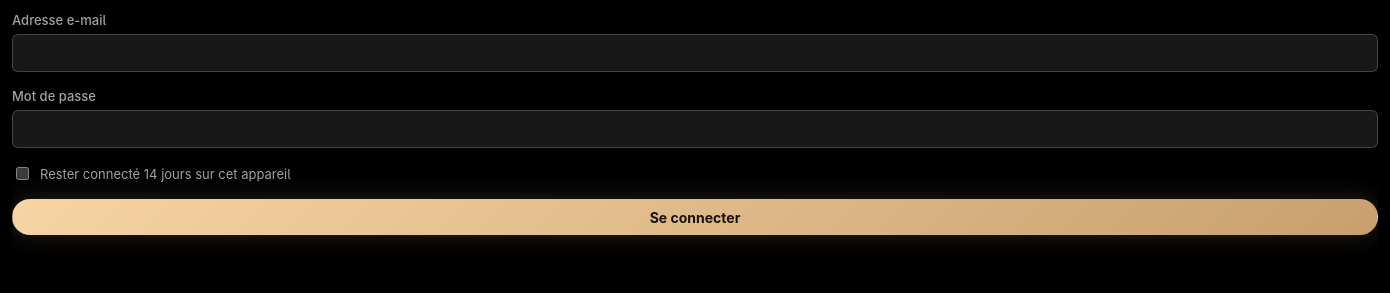
LoginForm › shows a generic error for invalid credentials without revealing which field failed
The width and height of the screenshot is (1390, 293).
Step 1. Type "owner@example.test" into the field labelled "Adresse e-mail" → (695, 53), box [12,34,1378,72]
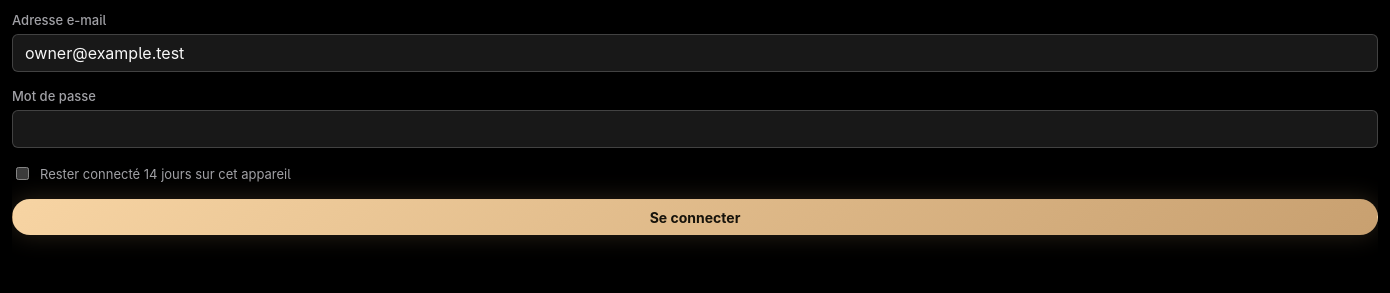
Step 2. Type "correct horse battery" into the password field labelled "Mot de passe" → (695, 129), box [12,110,1378,148]
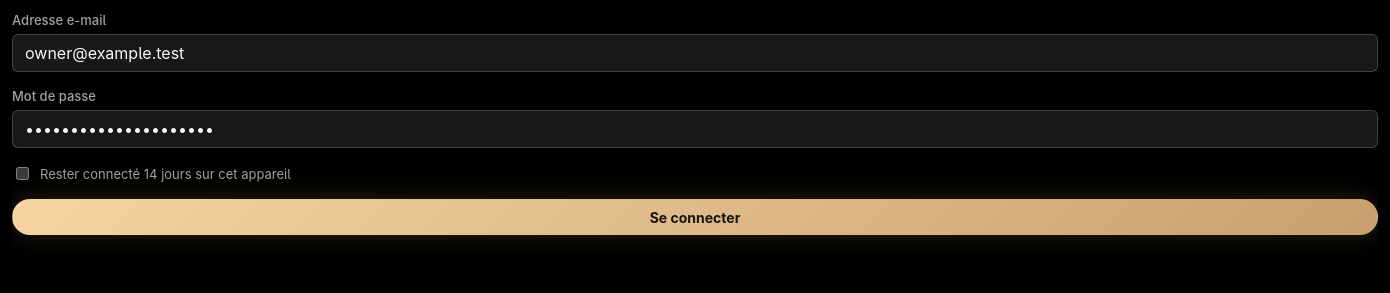
Step 3. Submit the form from the button "Se connecter", box [12,199,1378,235]
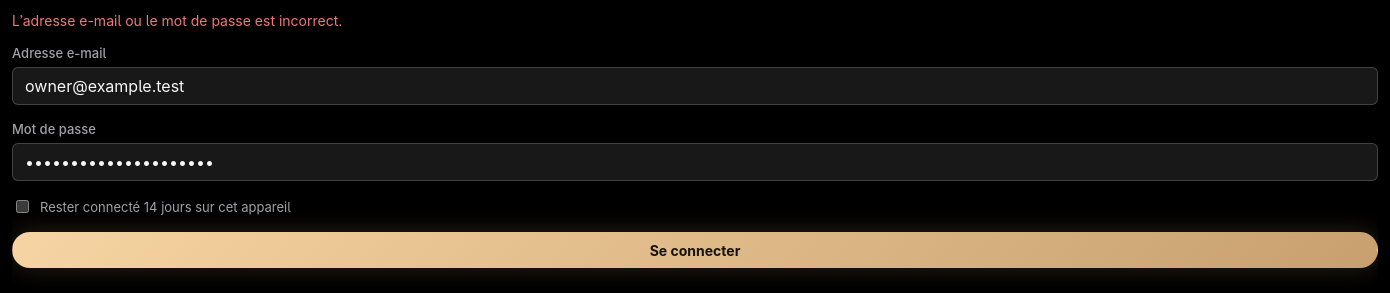
Expected: the message shows "incorrect", [12,12,342,29]
